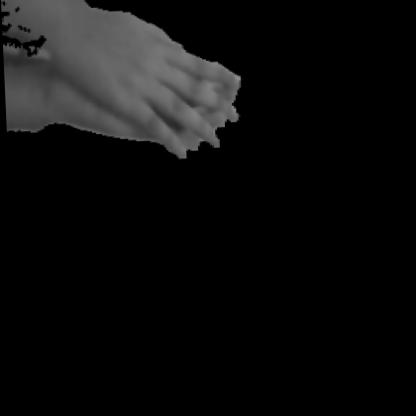clap: (2, 0, 264, 171)
